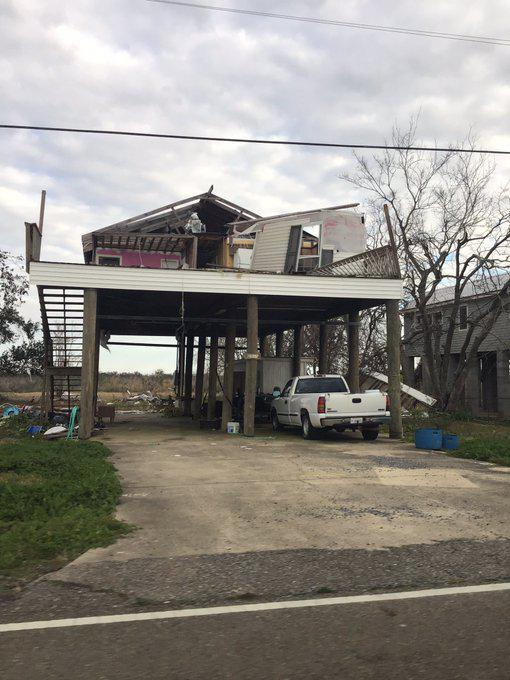destroyed: (17, 144, 416, 442)
